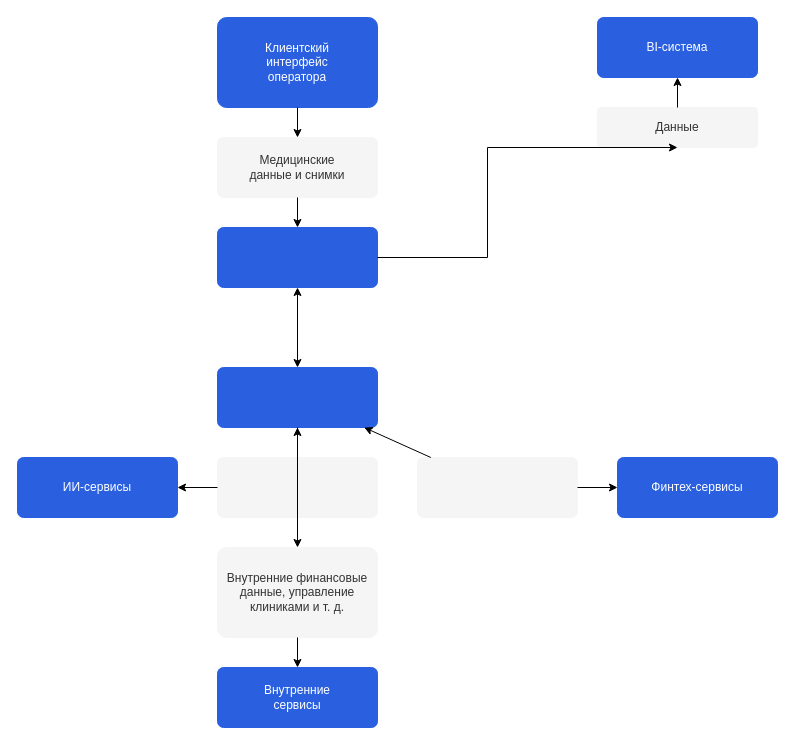
This 795x745 diagram has some shape labels left out. The box of each missing label's shape, as (x1, y1, x2, y2) in pixels:
DWH: (216, 226, 378, 288)
Интеграционная шина: (216, 366, 378, 428)
Медицинские данные: (216, 456, 378, 518)
Финансовые данные: (416, 456, 578, 518)
